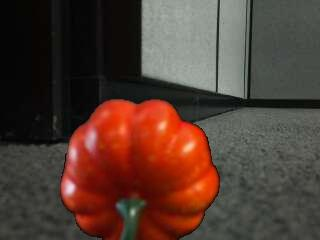Pumpkin: (60, 100, 219, 240)
